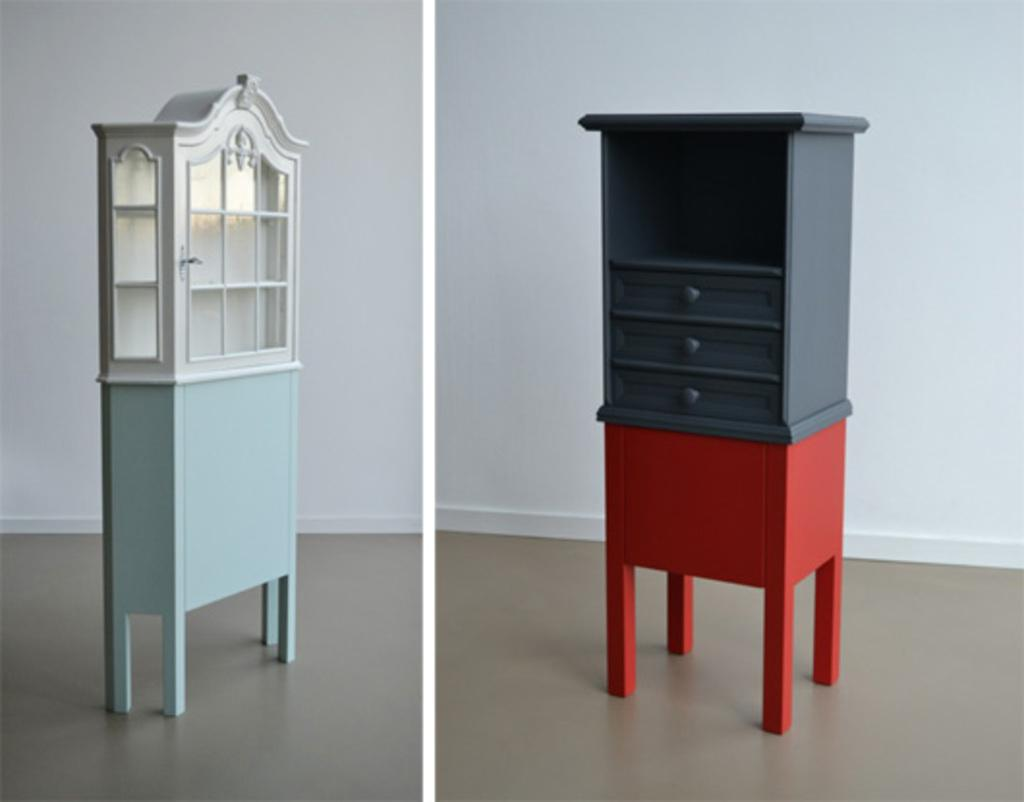cabinet_door: (182, 175, 290, 352), (628, 270, 761, 316), (636, 376, 766, 422), (640, 326, 766, 366)
handle: (676, 286, 700, 309), (680, 335, 701, 360), (681, 381, 701, 403), (178, 250, 200, 269)
